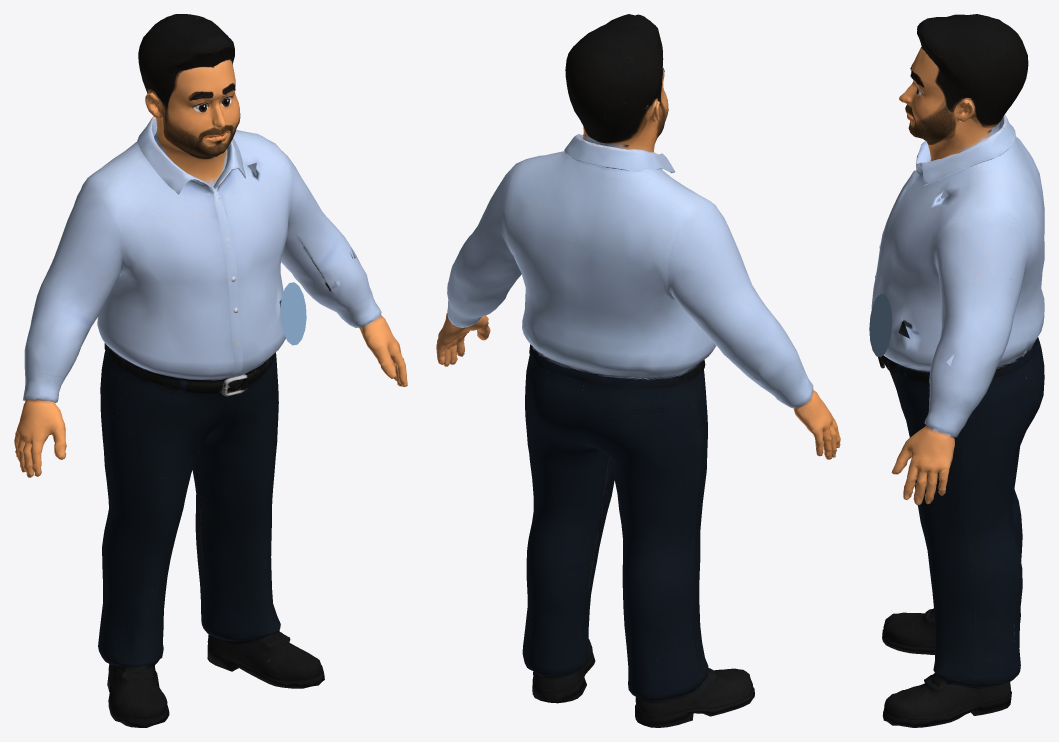
Rendered from AbdullahEkinci_MeshyPro.obj.
The picture shows the model from 3 angles, left to right: view 1: azimuth 30°, elevation 25°; view 2: azimuth 150°, elevation 25°; view 3: azimuth 270°, elevation 25°; orthographic projection. The views are drawn at different scales.
Visible parts, largest first — view 1: AbdullahEkinci; view 2: AbdullahEkinci; view 3: AbdullahEkinci.
Part boxes in pixels (bbox=[...]): AbdullahEkinci: bbox=[14, 14, 407, 727]; AbdullahEkinci: bbox=[436, 14, 840, 727]; AbdullahEkinci: bbox=[869, 14, 1044, 727].
Size of the model in its own units: 1.1 by 1.8 by 0.4349.
